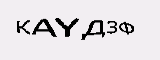А: (31, 15, 58, 38)
Д: (82, 15, 106, 39)
З: (106, 16, 117, 35)
К: (13, 18, 32, 36)
Ф: (119, 16, 136, 38)
Ү: (55, 14, 78, 39)
